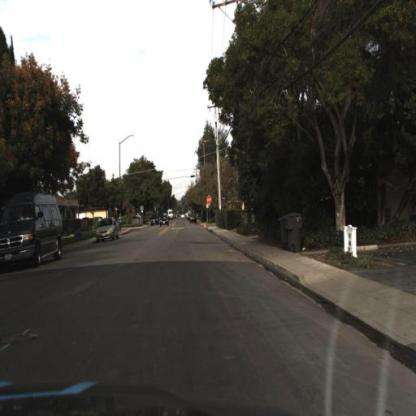car: (1, 192, 65, 272), (96, 214, 121, 245), (159, 212, 171, 230), (188, 208, 200, 226), (150, 213, 161, 229)
